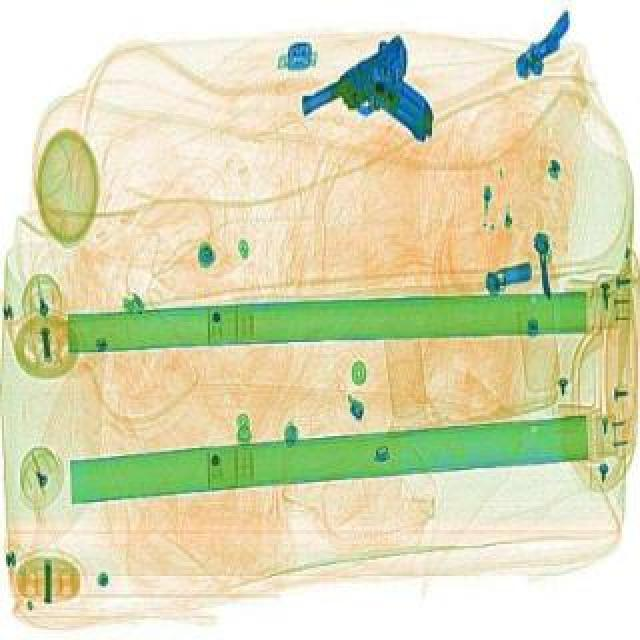gun: (284, 32, 452, 180)
